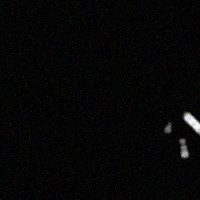chromosome: (183, 110, 200, 155), (179, 137, 188, 156), (163, 120, 172, 133)
